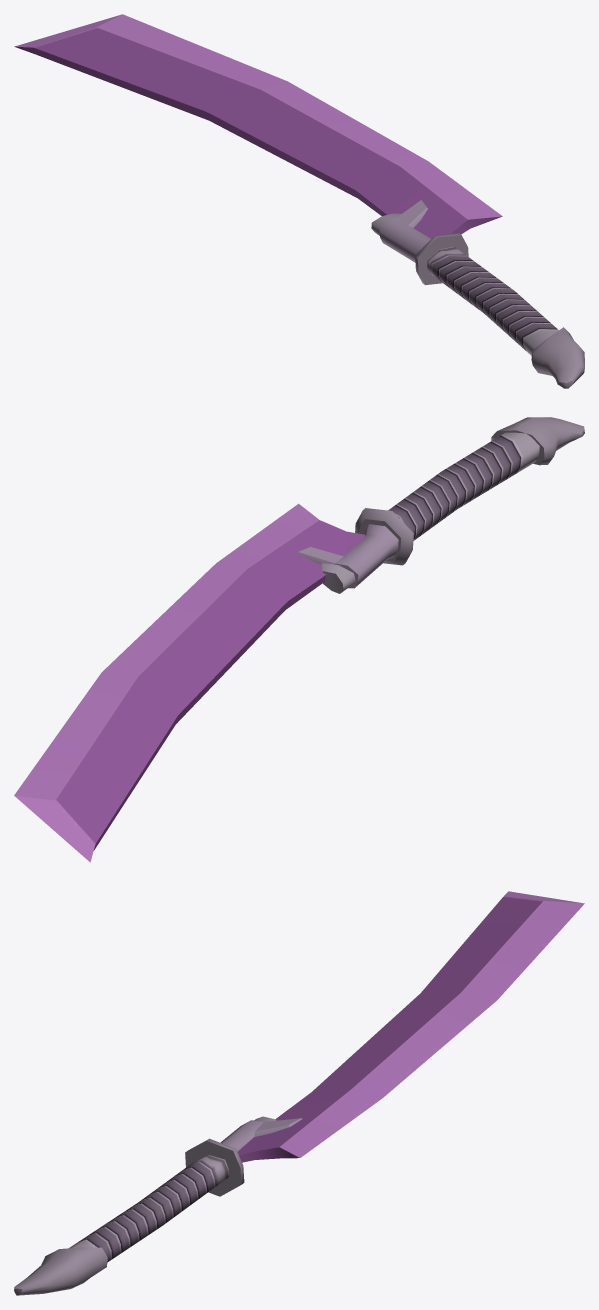
Rendered from Voidsword.fbx.
3 renders of one model, top to bottom at view 1: azimuth 30°, elevation 25°; view 2: azimuth 150°, elevation 25°; view 3: azimuth 330°, elevation 25°, orthographic. The views are drawn at different scales.
Parts seen in each view (by area): view 1: Katanas_fixpos:Katanas_02_pasted__K_Void; view 2: Katanas_fixpos:Katanas_02_pasted__K_Void; view 3: Katanas_fixpos:Katanas_02_pasted__K_Void.
Boxes of the visible parts, box(x1,y1,x2,y2) form: Katanas_fixpos:Katanas_02_pasted__K_Void: box(14, 14, 584, 388); Katanas_fixpos:Katanas_02_pasted__K_Void: box(14, 417, 584, 862); Katanas_fixpos:Katanas_02_pasted__K_Void: box(14, 891, 584, 1295).
Bounding box in the file's own units: 2.52 × 0.7699 × 14.57.
